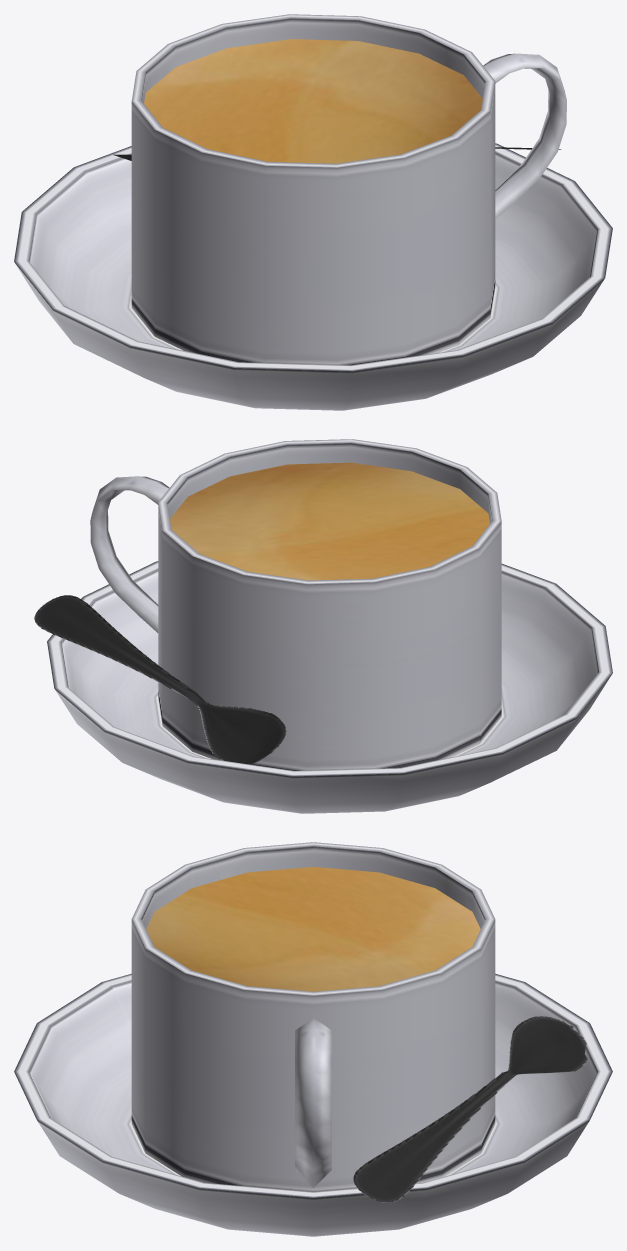
The model's file is Coffee.FBX.
3 renders of one model, top to bottom at view 1: azimuth 30°, elevation 25°; view 2: azimuth 150°, elevation 25°; view 3: azimuth 270°, elevation 25°, orthographic. The views are drawn at different scales.
Visible parts, largest first — view 1: Coffee; view 2: Coffee; view 3: Coffee.
Part boxes in pixels (x1=…): Coffee: x1=14, y1=14, x2=612, y2=410; Coffee: x1=34, y1=439, x2=612, y2=813; Coffee: x1=14, y1=842, x2=612, y2=1236.
Size of the model in its own units: 14.65 by 13.86 by 5.71.
